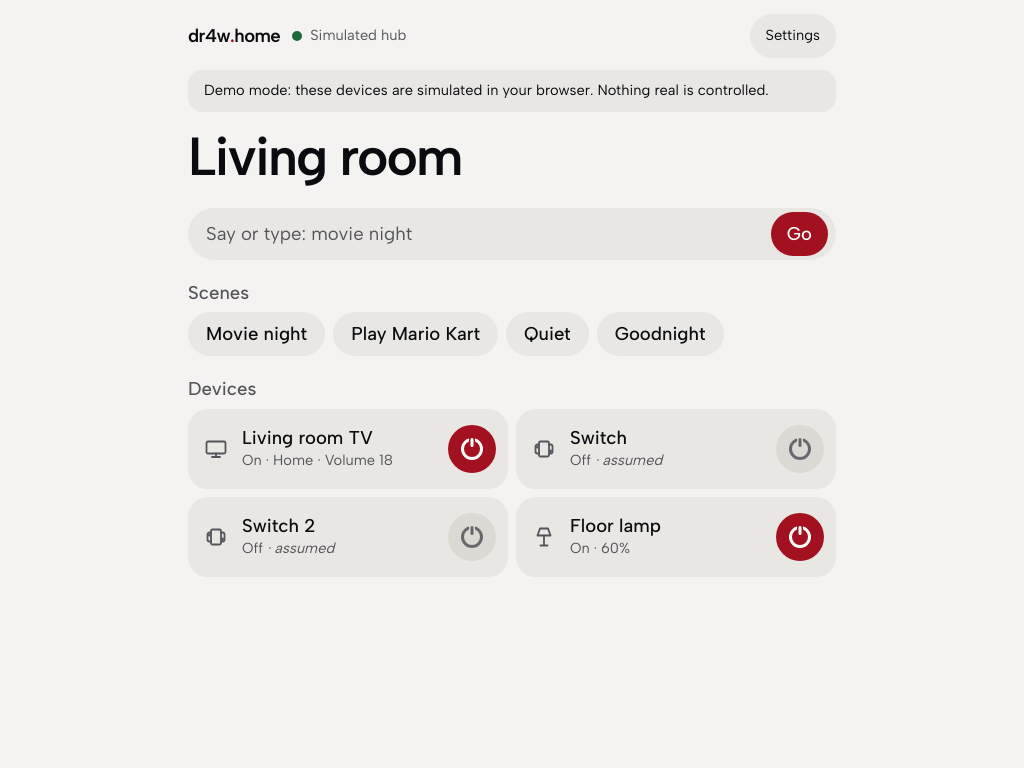
Test case: asks in a dialog before a loud volume, then repeats the command confirmed
Expected: the text "On · Home · Volume 18" is shown, [242, 451, 393, 469]
Type "volume 90" into the dropdown. click: (483, 234)
box: [206, 208, 761, 259]
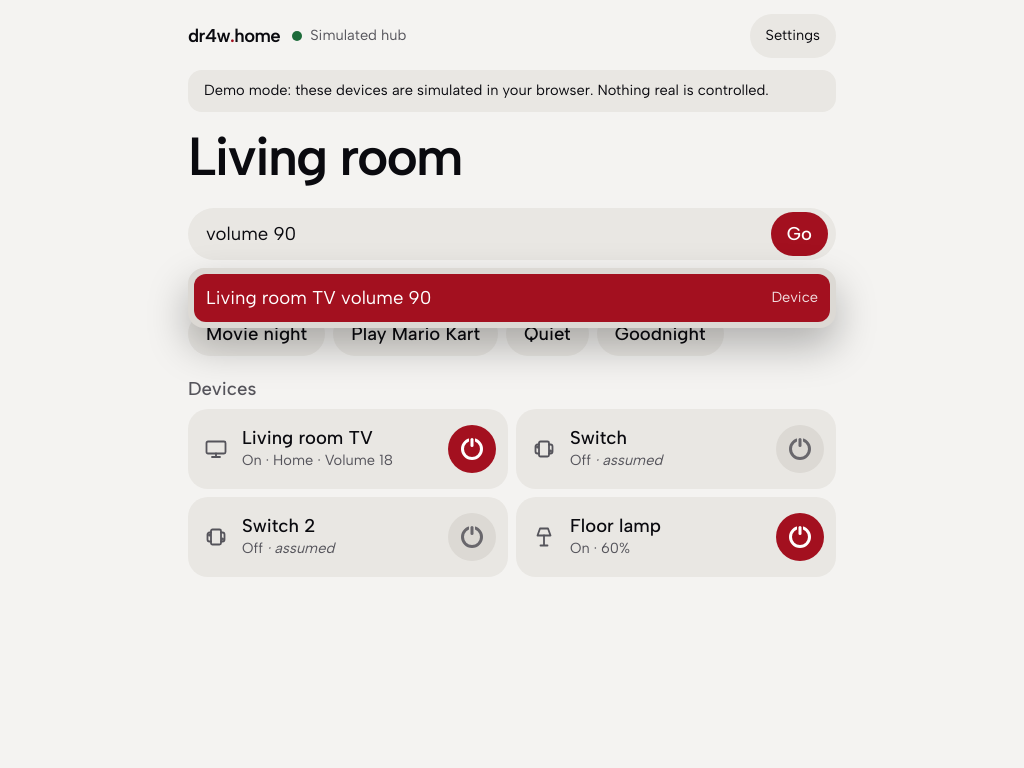
Submit the form, box [188, 208, 836, 260]
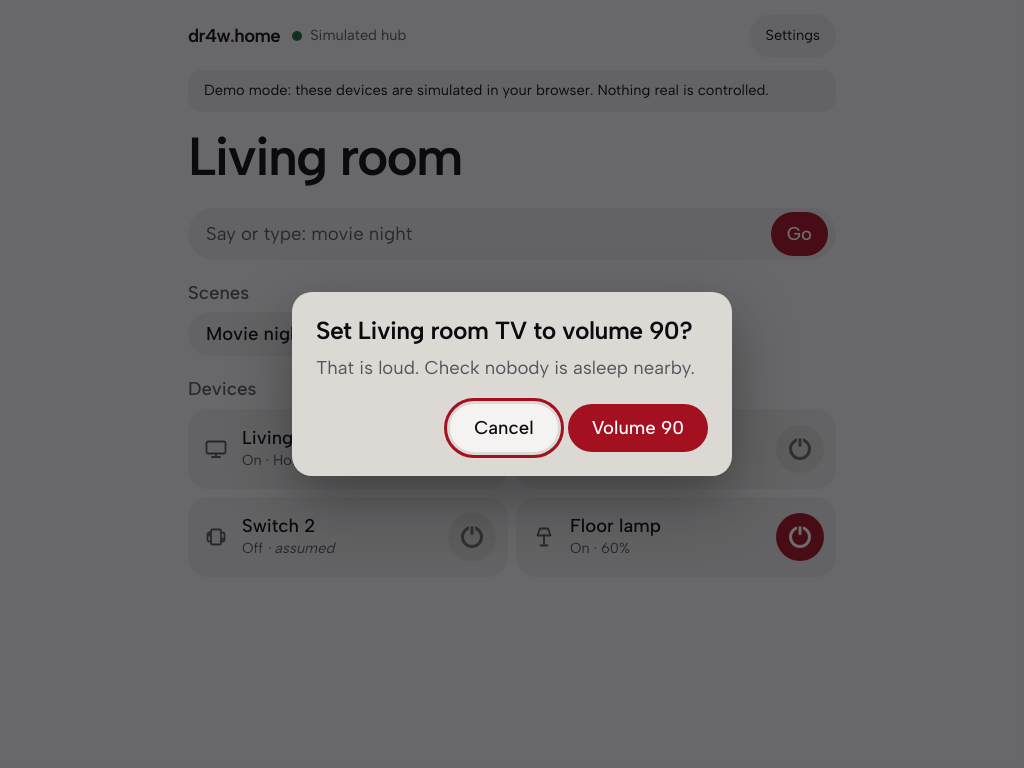
Expected: the heading "Set Living room TV to volume 90?" is shown, [316, 316, 708, 344]
Click the button "Volume 90". click: (638, 428)
box: [568, 404, 708, 452]
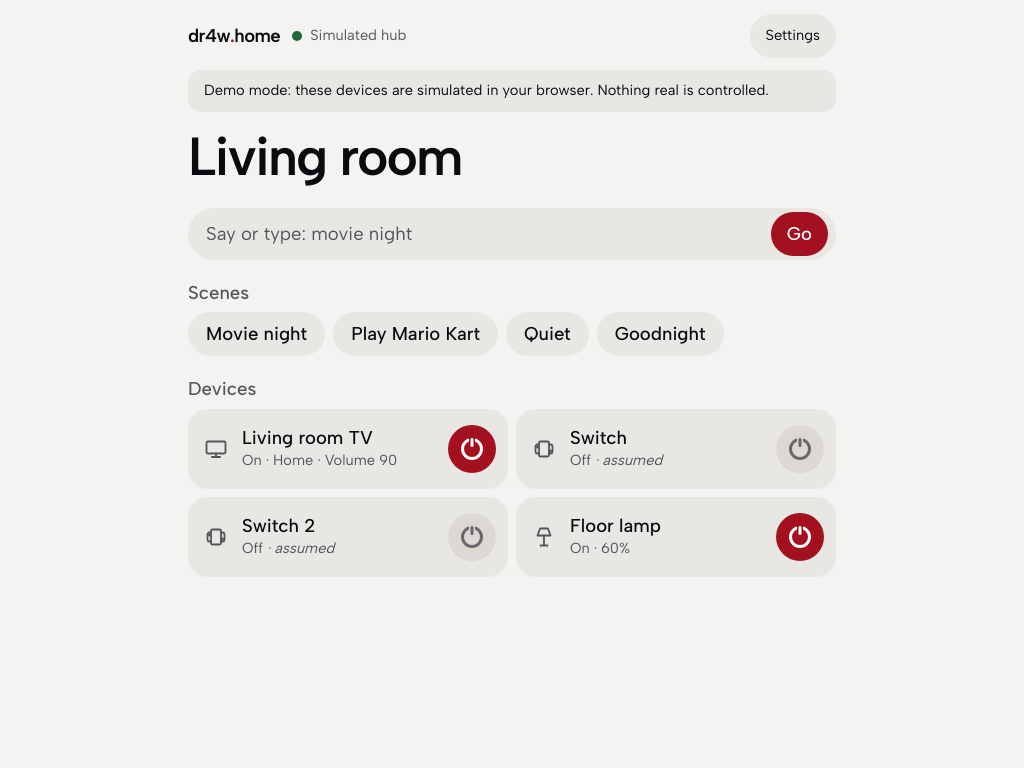
Expected: the text "On · Home · Volume 90" is shown, [242, 451, 397, 469]
